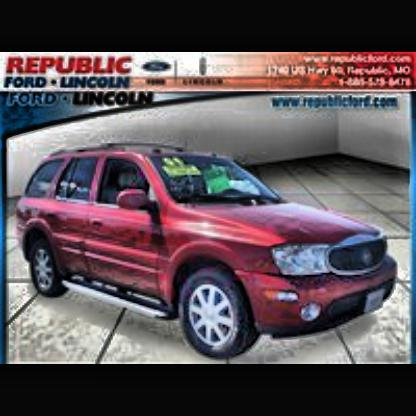Buick Rainier SUV 2007: (11, 138, 404, 364)
